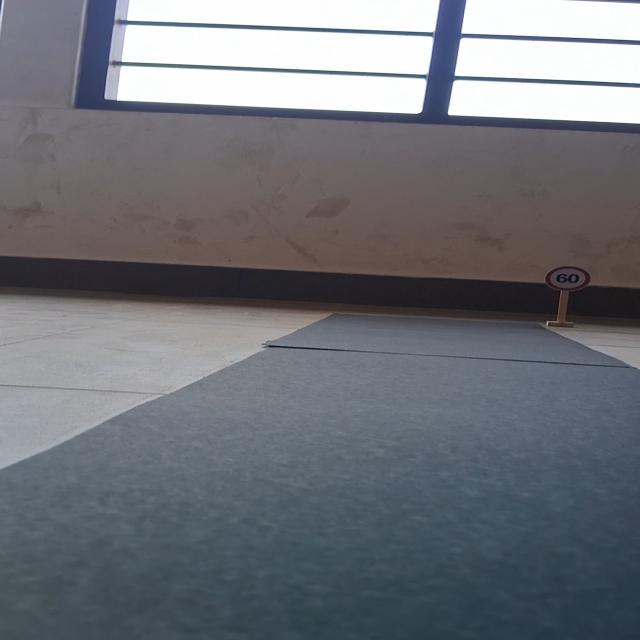Speed60: (545, 265, 592, 292)
